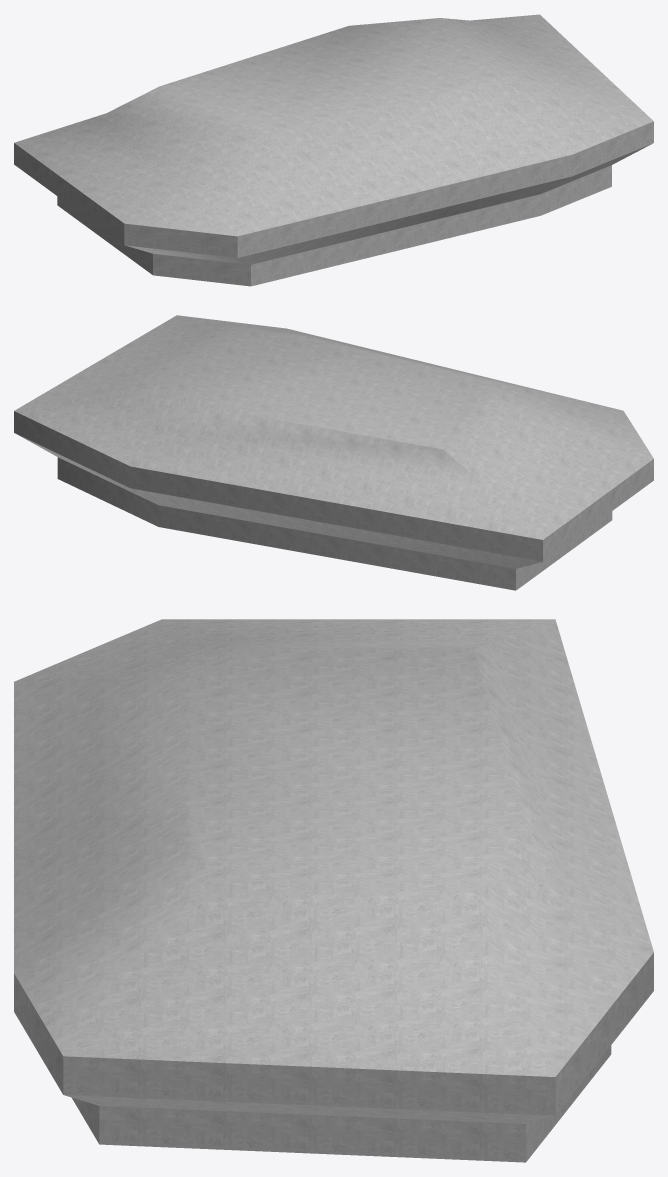
The model's file is rock02.fbx.
3 views of the same model, one above another, from view 1: azimuth 30°, elevation 25°; view 2: azimuth 150°, elevation 25°; view 3: azimuth 270°, elevation 25° (orthographic). The views are drawn at different scales.
Parts seen in each view (by area): view 1: mesh_16; view 2: mesh_16; view 3: mesh_16.
Part boxes in pixels (<box>): mesh_16: <box>14,14,653,286</box>; mesh_16: <box>14,315,653,590</box>; mesh_16: <box>14,619,653,1162</box>.
Size of the model in its own units: 812 by 160 by 480.
Materials: 1 (1 with a texture image).
